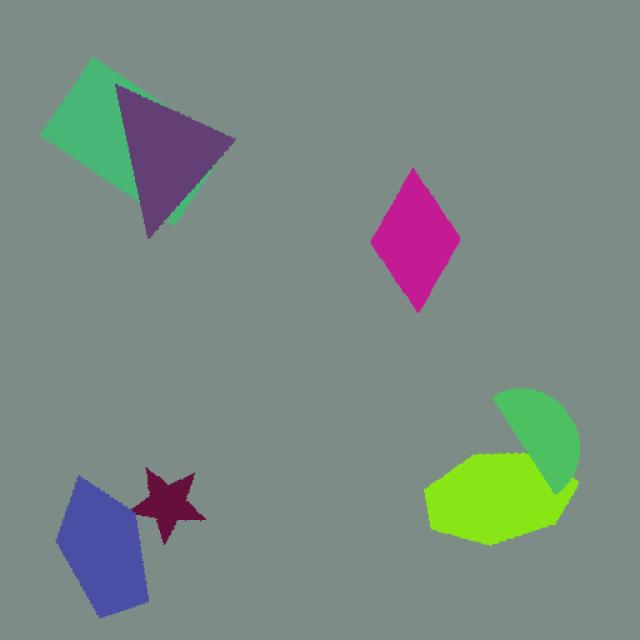Heptagon: (392, 443, 597, 542)
Kite: (344, 121, 478, 321)
Pentagon: (36, 466, 156, 626)
Rectangle: (33, 37, 225, 228)
Semicircle: (481, 362, 600, 500)
Star: (131, 453, 218, 547)
Triangle: (102, 78, 248, 242)
